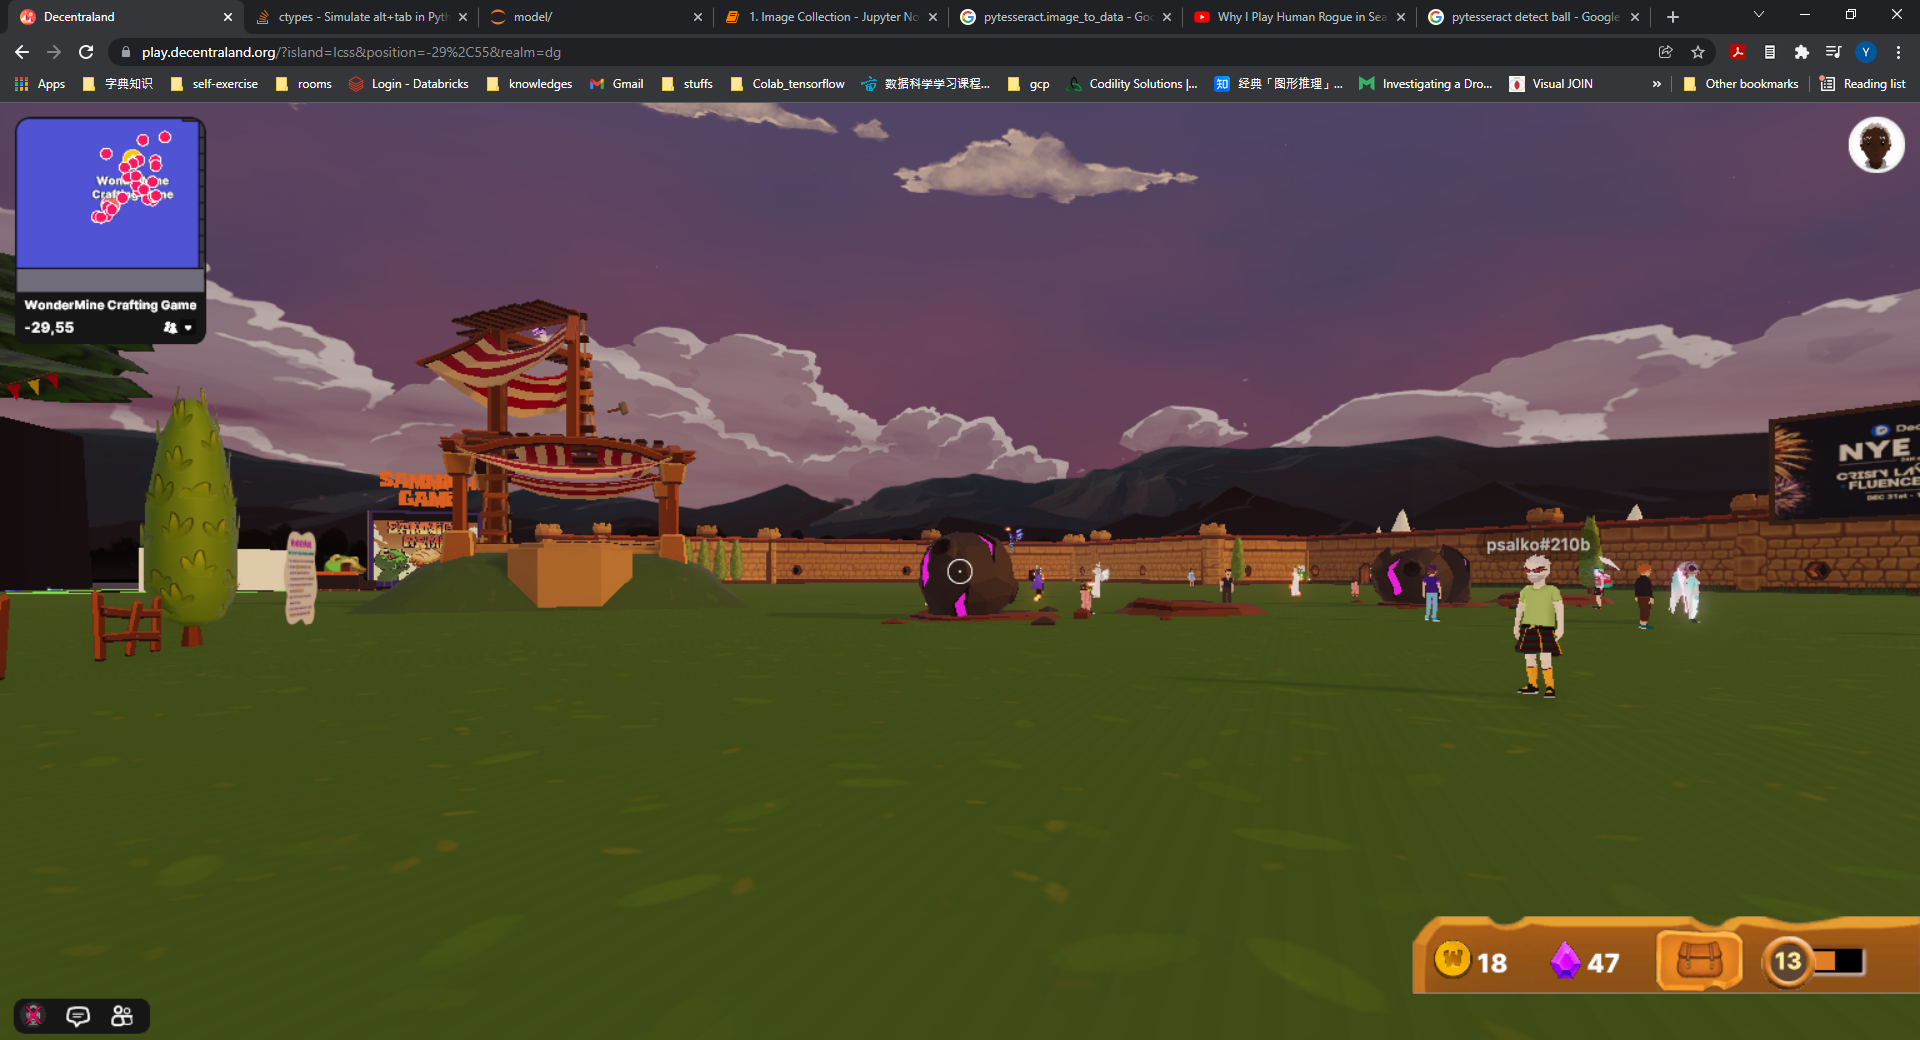black_ball: (893, 521, 1051, 642)
